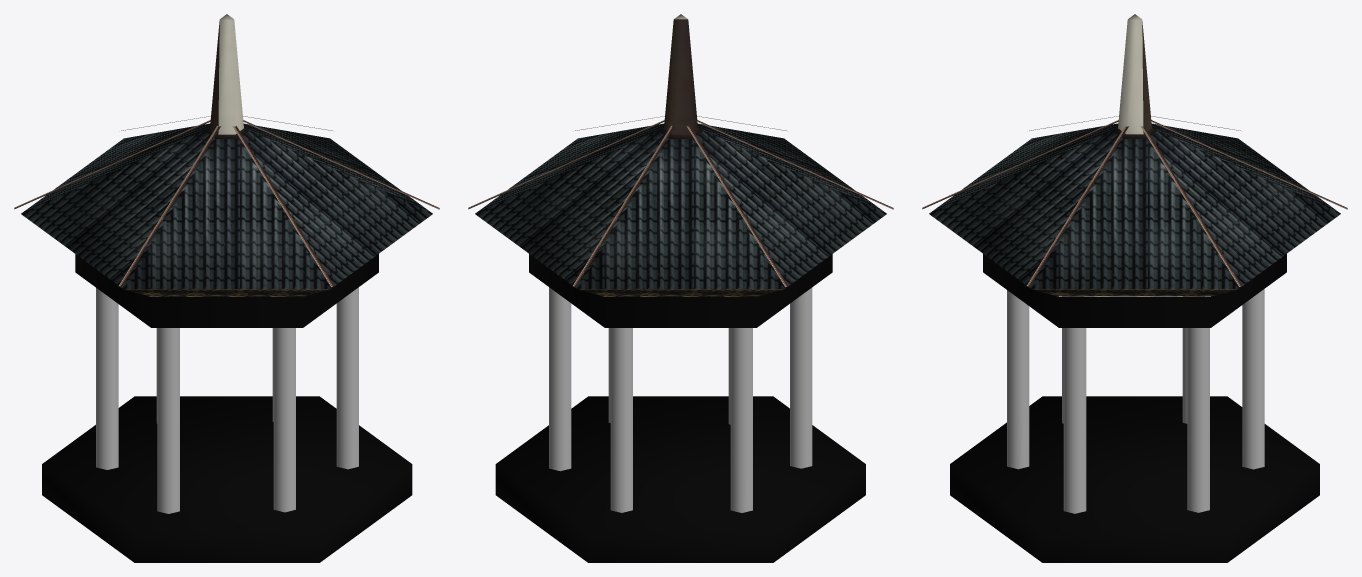
The model's file is BG_ting.FBX.
3 renders of one model, left to right at view 1: azimuth 30°, elevation 25°; view 2: azimuth 150°, elevation 25°; view 3: azimuth 270°, elevation 25°, orthographic.
Visible parts, largest first — view 1: BG building_01; view 2: BG building_01; view 3: BG building_01.
Part boxes in pixels (x1,y1,x2,y2): BG building_01: [14, 14, 439, 562]; BG building_01: [468, 14, 893, 562]; BG building_01: [922, 14, 1347, 562].
Size of the model in its own units: 2.04 by 2.9 by 2.34.
